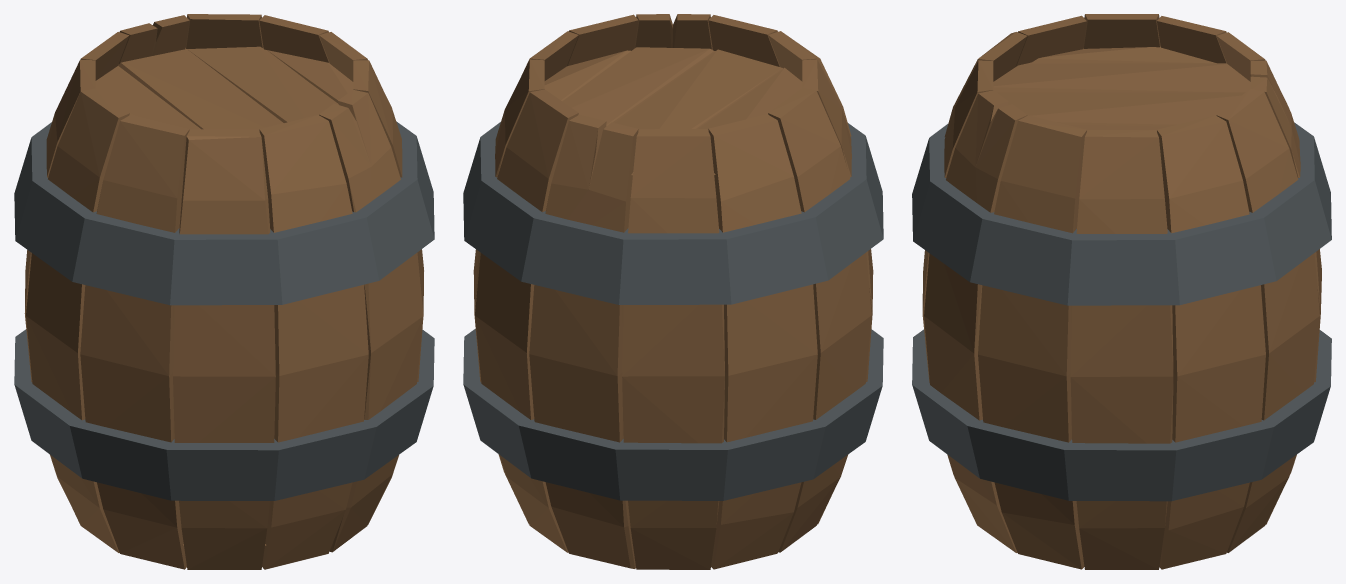
Rendered from Barrel_01.fbx.
3 renders of one model, left to right at view 1: azimuth 30°, elevation 25°; view 2: azimuth 150°, elevation 25°; view 3: azimuth 270°, elevation 25°, orthographic.
Visible parts, largest first — view 1: Barrel_01; view 2: Barrel_01; view 3: Barrel_01.
Part boxes in pixels (left/top/right/bottom): Barrel_01: left=14, top=14, right=434, bottom=569; Barrel_01: left=463, top=14, right=883, bottom=569; Barrel_01: left=912, top=14, right=1331, bottom=569.
Size of the model in its own units: 0.8994 by 1.03 by 0.8994.
